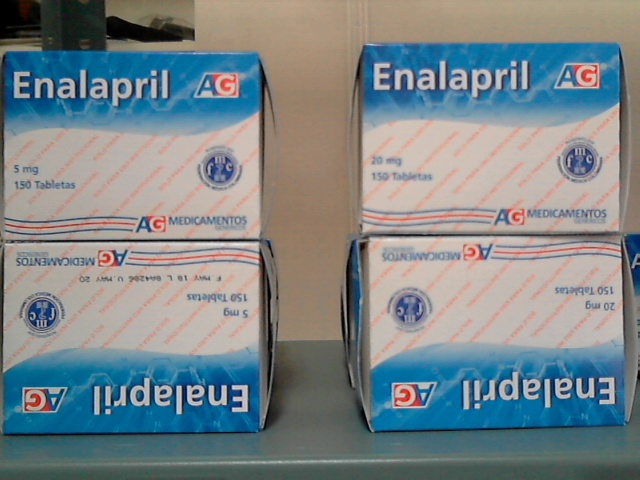AG: (365, 44, 620, 234), (4, 53, 261, 240), (4, 245, 260, 432), (371, 241, 625, 428)
